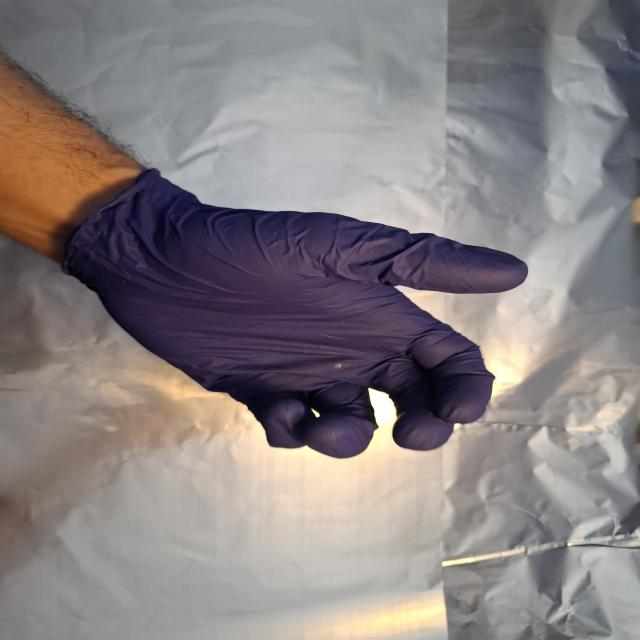glove_on: (51, 167, 533, 462)
